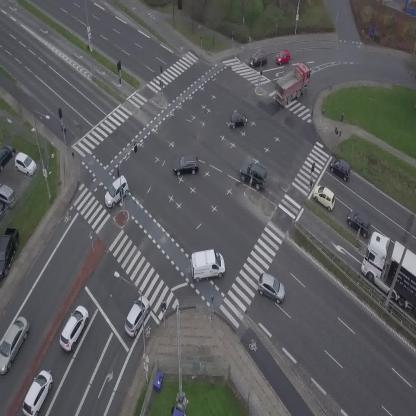car: (0, 313, 35, 376), (54, 303, 94, 353), (18, 367, 57, 416), (120, 293, 154, 338), (98, 174, 135, 210), (234, 158, 273, 192), (254, 272, 290, 304), (342, 208, 375, 238), (309, 183, 340, 211), (326, 154, 356, 181), (172, 154, 200, 176), (247, 50, 269, 67), (273, 48, 292, 66), (229, 112, 248, 129)
lorry: (267, 60, 320, 109), (185, 246, 228, 285)
